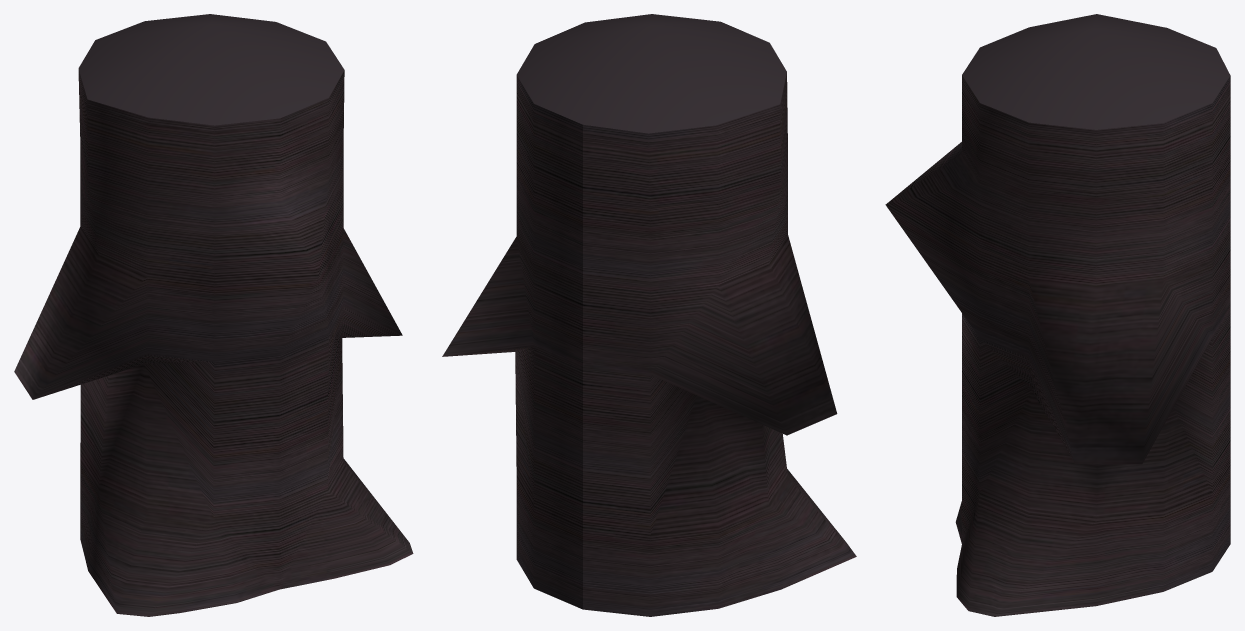
Rendered from penguin_texture.gltf.
The picture shows the model from 3 angles, left to right: view 1: azimuth 30°, elevation 25°; view 2: azimuth 150°, elevation 25°; view 3: azimuth 270°, elevation 25°; orthographic projection. The views are drawn at different scales.
Parts seen in each view (by area): view 1: Cylinder01; view 2: Cylinder01; view 3: Cylinder01.
Boxes of the visible parts, x1,y1,x2,y2 form: Cylinder01: (14,14,413,616); Cylinder01: (442,14,856,616); Cylinder01: (885,14,1230,616).
Size of the model in its own units: 1.11 by 1.53 by 0.9277.
Materials: 1 (1 with a texture image).
